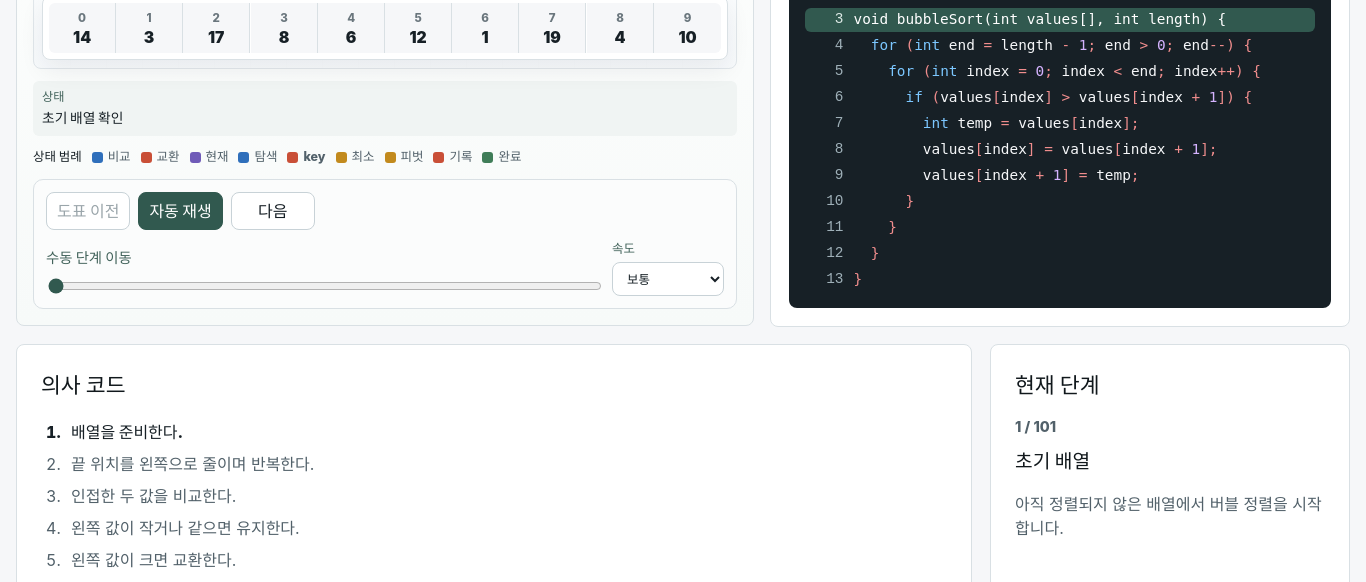
Scenario: SortingPage › also advances with the next button beside the chart
(page scrolled)
Click the button with aria-label "도표 다음": (273, 211) [231, 192, 315, 230]
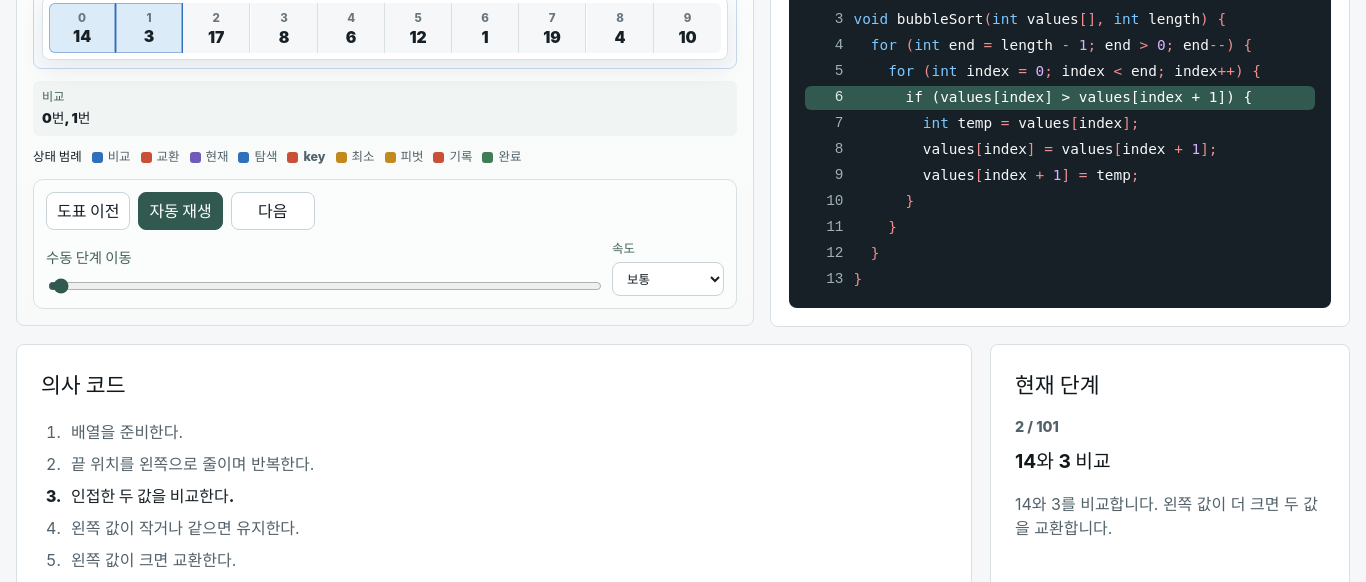
Expected: the heading "14와 3 비교" is shown, [1015, 450, 1111, 474]
